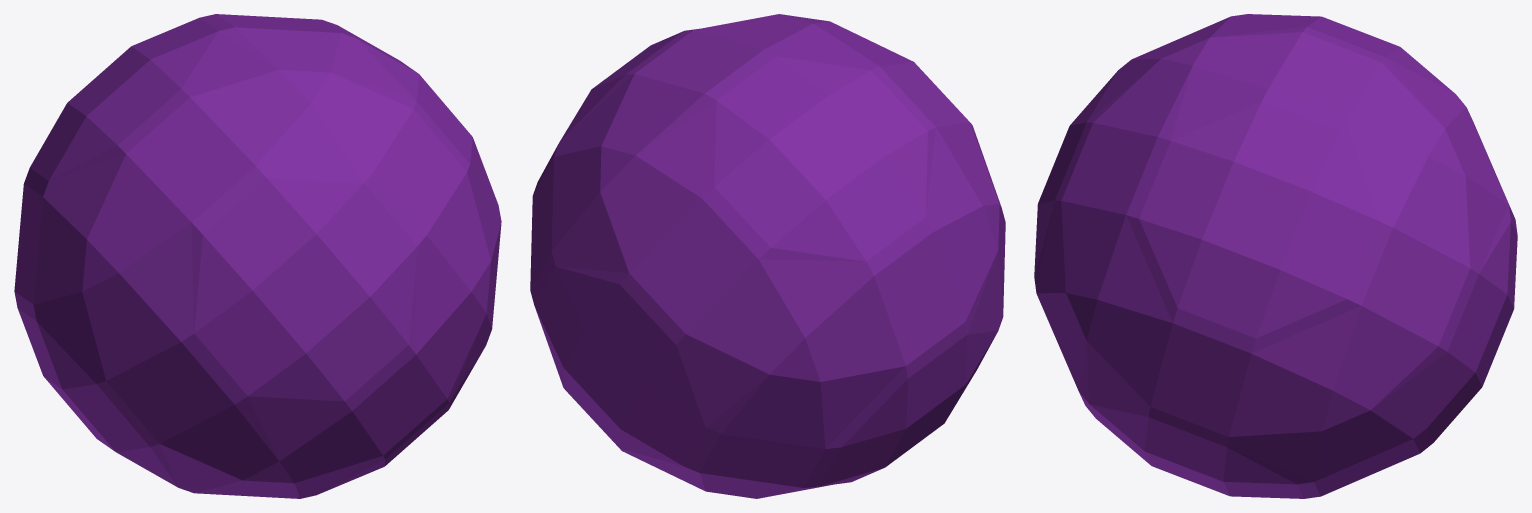
The model's file is PlanetaBlender.glb.
The picture shows the model from 3 angles, left to right: view 1: azimuth 30°, elevation 25°; view 2: azimuth 150°, elevation 25°; view 3: azimuth 270°, elevation 25°; orthographic projection.
Visible parts, largest first — view 1: Mball.001; view 2: Mball.001; view 3: Mball.001.
Boxes of the visible parts, x1,y1,x2,y2 form: Mball.001: (14,14,501,498); Mball.001: (530,14,1005,498); Mball.001: (1034,14,1517,498).
Size of the model in its own units: 21.12 by 21.09 by 21.01.
